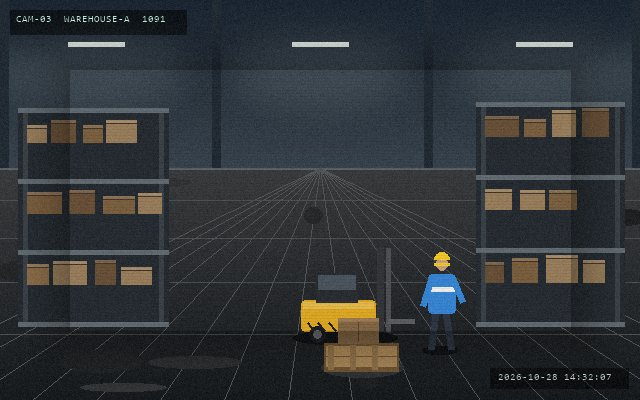forklift: (297, 246, 416, 345)
pallet: (322, 341, 400, 373)
person: (419, 250, 464, 353)
shelf: (18, 108, 168, 322), (256, 196, 384, 204)
